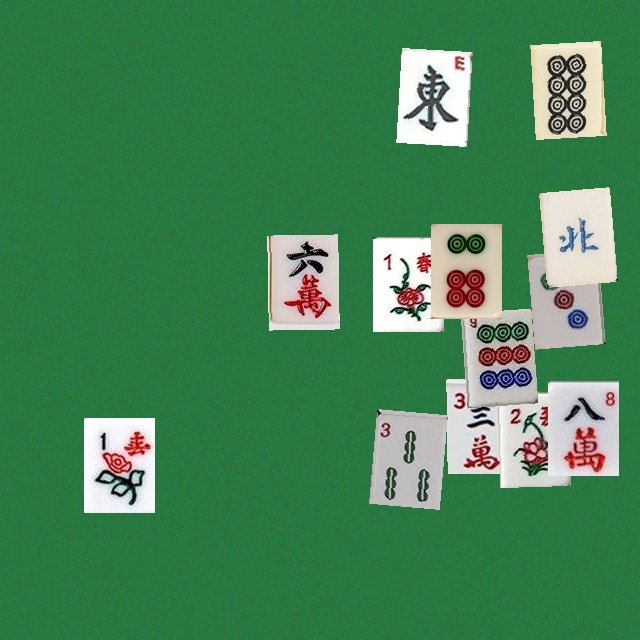tile: (446, 378, 517, 473), (267, 234, 338, 329), (497, 390, 568, 485), (372, 236, 443, 331), (547, 380, 618, 475), (527, 249, 598, 344), (460, 308, 531, 403), (396, 48, 467, 143), (369, 409, 440, 504), (539, 187, 610, 282), (83, 417, 154, 512), (430, 223, 501, 318), (530, 41, 601, 136)
